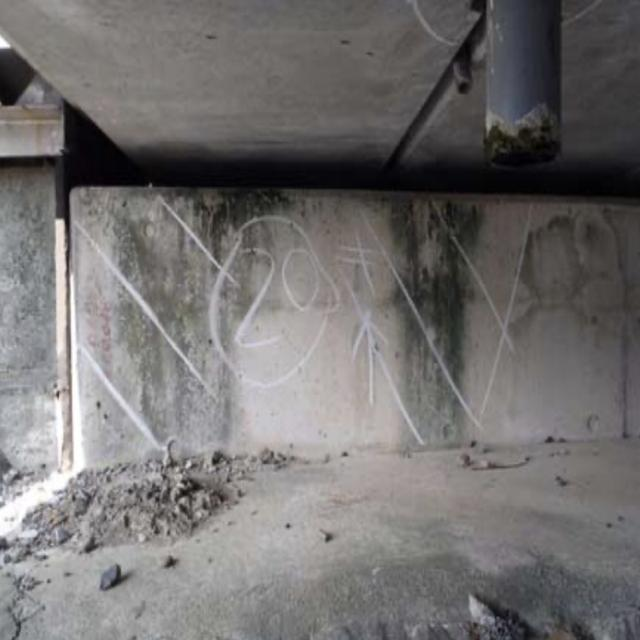leakage: (116, 164, 264, 454), (376, 160, 488, 441)
